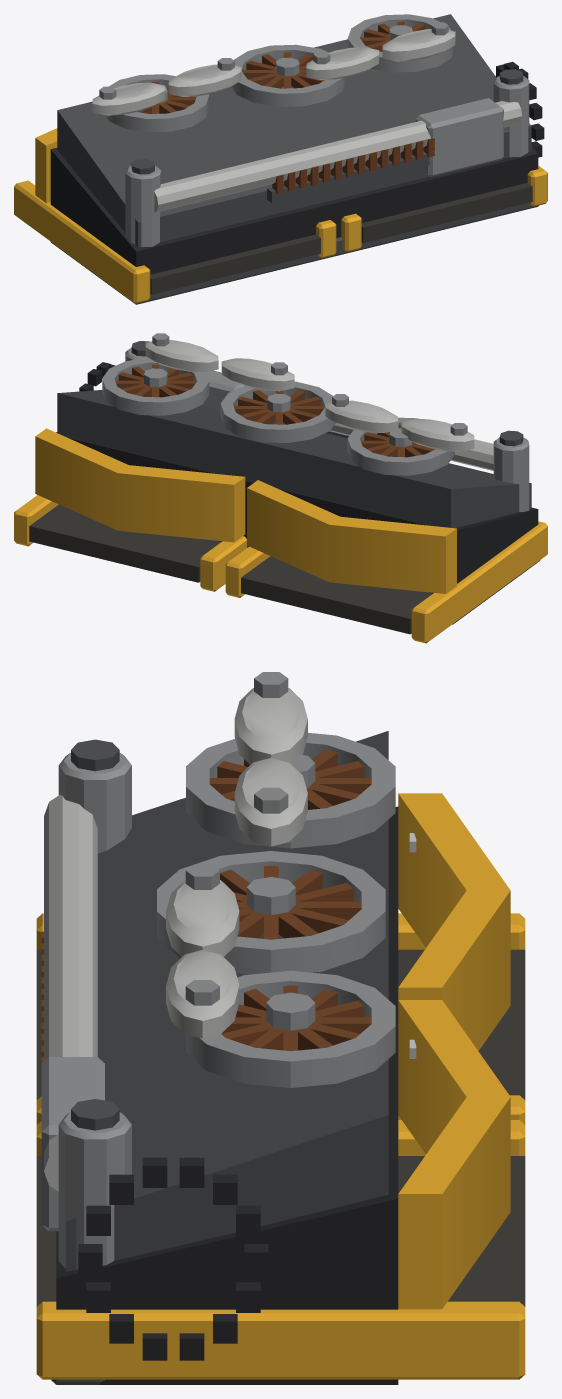
Rendered from splitter.glb.
3 renders of one model, top to bottom at view 1: azimuth 30°, elevation 25°; view 2: azimuth 150°, elevation 25°; view 3: azimuth 270°, elevation 25°, orthographic. The views are drawn at different scales.
Parts seen in each view (by area): view 1: body, anim_spin_gear.001, anim_slide_split_rack, anim_spin_gear, anim_spin_gear.002, anim_crank_split_eb, anim_crank_split_wb, anim_crank_split_wa, anim_crank_split_ea; view 2: body, anim_spin_gear.001, anim_spin_gear.002, anim_spin_gear, anim_crank_split_eb, anim_crank_split_wb, anim_crank_split_ea, anim_crank_split_wa, anim_slide_split_rack; view 3: body, anim_spin_gear.002, anim_spin_gear.001, anim_spin_gear, anim_crank_split_ea, anim_crank_split_eb, anim_crank_split_wb, anim_crank_split_wa, anim_slide_split_rack.
Part boxes in pixels (left/top/right/bottom): body: left=14, top=14, right=547, bottom=304; anim_spin_gear.001: left=231, top=44, right=345, bottom=106; anim_slide_split_rack: left=415, top=98, right=503, bottom=176; anim_spin_gear: left=105, top=74, right=209, bottom=132; anim_spin_gear.002: left=347, top=14, right=454, bottom=72; anim_crank_split_eb: left=382, top=22, right=455, bottom=61; anim_crank_split_wb: left=168, top=58, right=241, bottom=96; anim_crank_split_wa: left=92, top=82, right=165, bottom=115; anim_crank_split_ea: left=306, top=47, right=379, bottom=79; body: left=14, top=341, right=547, bottom=643; anim_spin_gear.001: left=220, top=381, right=335, bottom=442; anim_spin_gear.002: left=102, top=357, right=209, bottom=415; anim_spin_gear: left=347, top=417, right=454, bottom=475; anim_crank_split_eb: left=145, top=333, right=218, bottom=372; anim_crank_split_wb: left=325, top=394, right=398, bottom=432; anim_crank_split_ea: left=221, top=358, right=294, bottom=391; anim_crank_split_wa: left=401, top=418, right=474, bottom=451; anim_slide_split_rack: left=201, top=370, right=242, bottom=410; body: left=36, top=731, right=525, bottom=1384; anim_spin_gear.002: left=186, top=970, right=395, bottom=1087; anim_spin_gear.001: left=157, top=851, right=385, bottom=974; anim_spin_gear: left=186, top=732, right=395, bottom=848; anim_crank_split_ea: left=166, top=864, right=239, bottom=956; anim_crank_split_eb: left=166, top=950, right=239, bottom=1038; anim_crank_split_wb: left=234, top=757, right=307, bottom=846; anim_crank_split_wa: left=234, top=672, right=307, bottom=764; anim_slide_split_rack: left=41, top=1057, right=104, bottom=1231.
Bounding box in the file's own units: 1.99 × 0.765 × 1.
